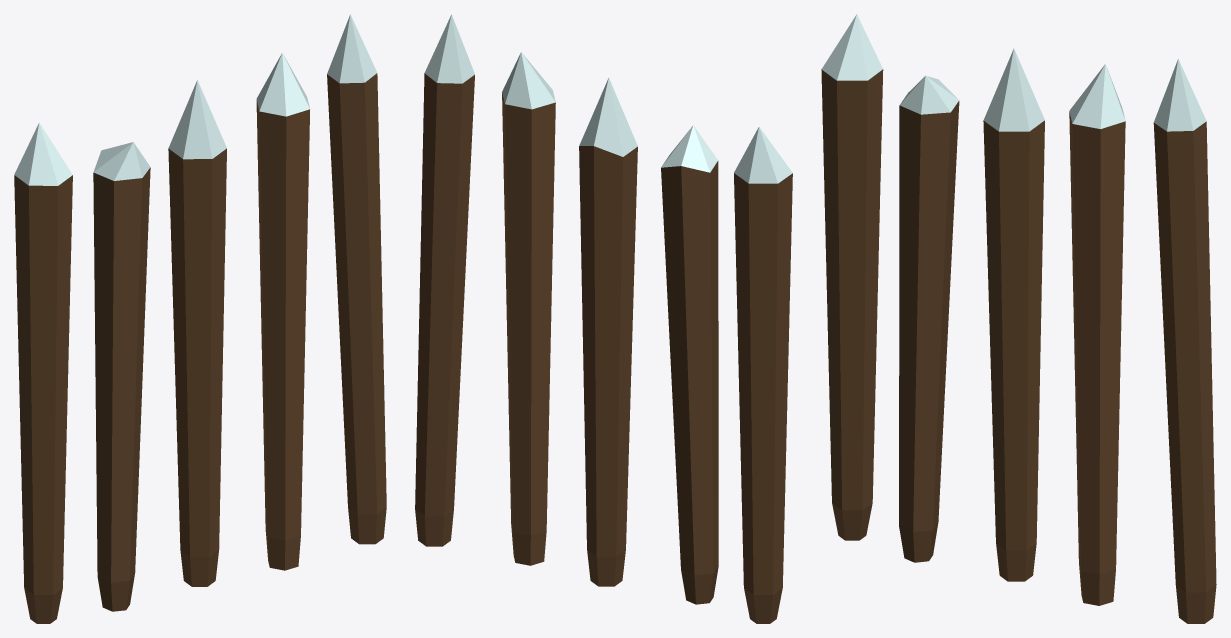
The model's file is stakes_white.glb.
3 views of the same model, side by side, from view 1: azimuth 30°, elevation 25°; view 2: azimuth 150°, elevation 25°; view 3: azimuth 330°, elevation 25° (orthographic). The views are drawn at different scales.
Visible parts, largest first — view 1: stakes_winter; view 2: stakes_winter; view 3: stakes_winter.
Boxes of the visible parts, left/top/right/bottom form: stakes_winter: left=14, top=14, right=386, bottom=623; stakes_winter: left=415, top=14, right=792, bottom=623; stakes_winter: left=821, top=14, right=1216, bottom=623.
Size of the model in its own units: 1.85 by 2.58 by 0.2783.
Materials: 1 (1 with a texture image).
